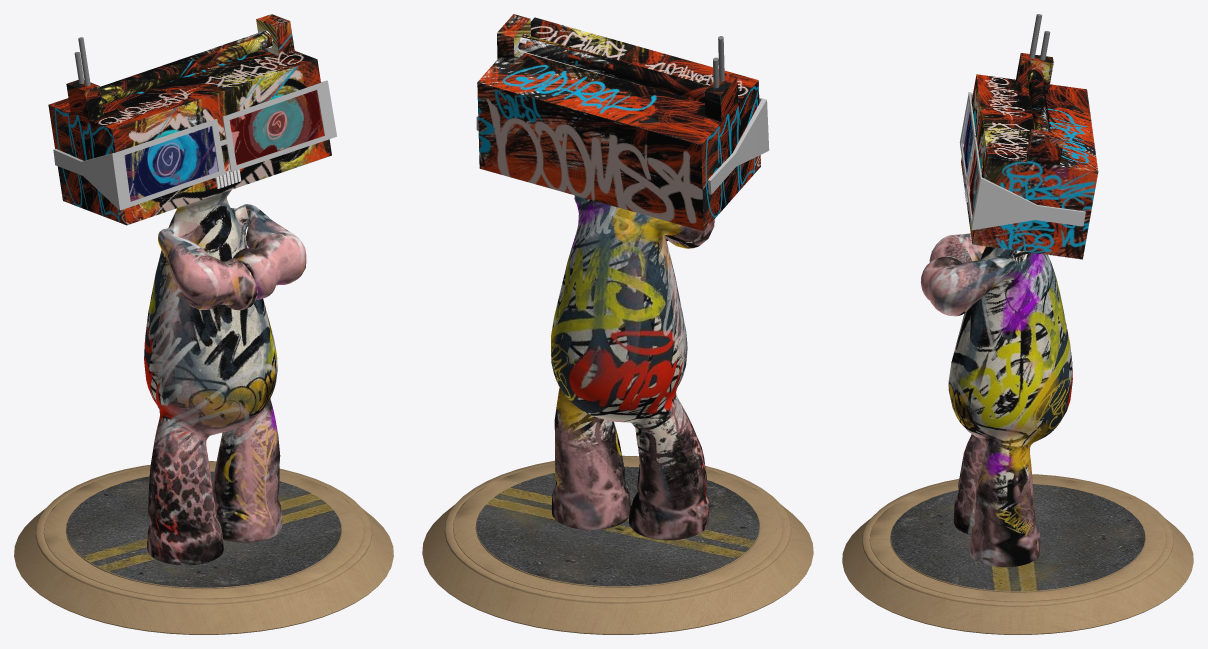
3 renders of one model, left to right at view 1: azimuth 30°, elevation 25°; view 2: azimuth 150°, elevation 25°; view 3: azimuth 270°, elevation 25°, orthographic. The views are drawn at different scales.
Size of the model in its own units: 1.45 by 2.25 by 1.45.
Materials: 9 (4 with a texture image).
